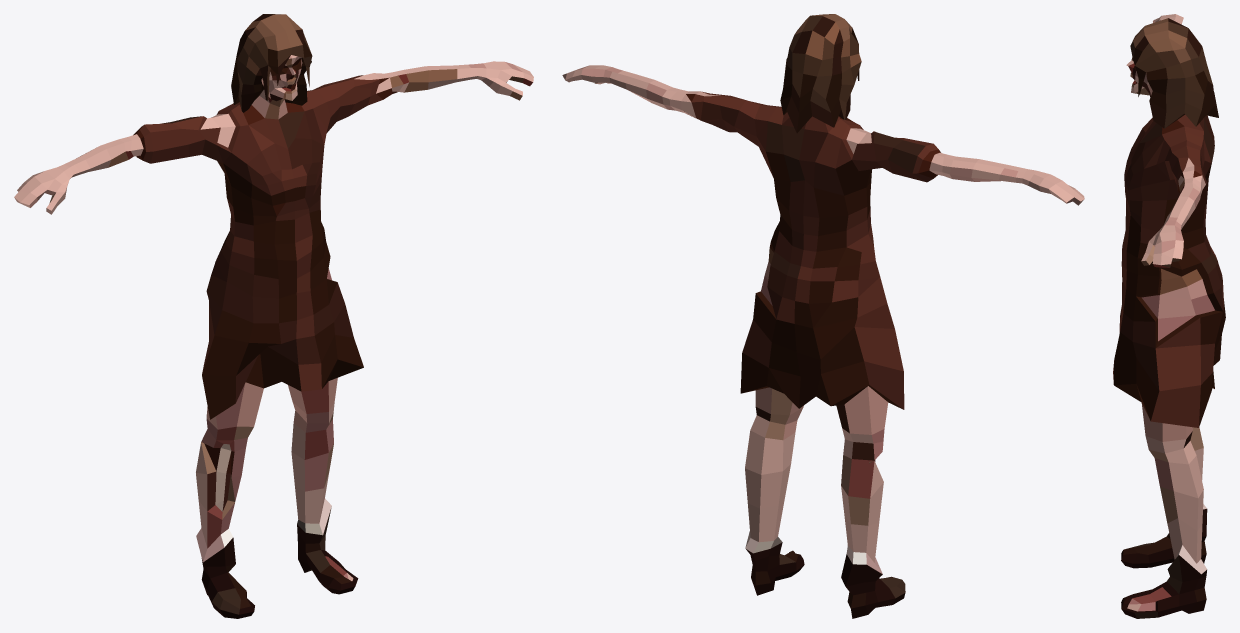
The model's file is ZombieA (5).fbx.
3 views of the same model, side by side, from view 1: azimuth 30°, elevation 25°; view 2: azimuth 150°, elevation 25°; view 3: azimuth 270°, elevation 25° (orthographic). The views are drawn at different scales.
Visible parts, largest first — view 1: lpFemale_zombie_A; view 2: lpFemale_zombie_A; view 3: lpFemale_zombie_A.
Part boxes in pixels (x1,y1,x2,y2): lpFemale_zombie_A: (14,14,533,618); lpFemale_zombie_A: (562,14,1084,618); lpFemale_zombie_A: (1113,14,1225,618).
Bounding box in the file's own units: 155 × 165 × 29.79.
